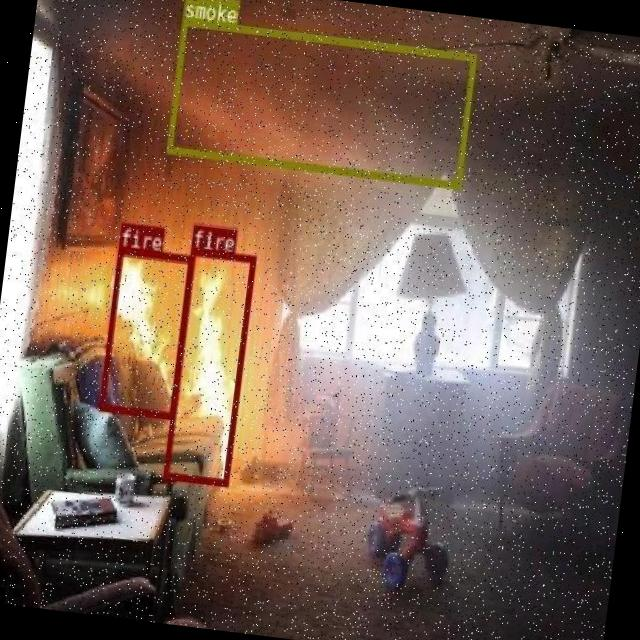smoke: (166, 17, 477, 188)
